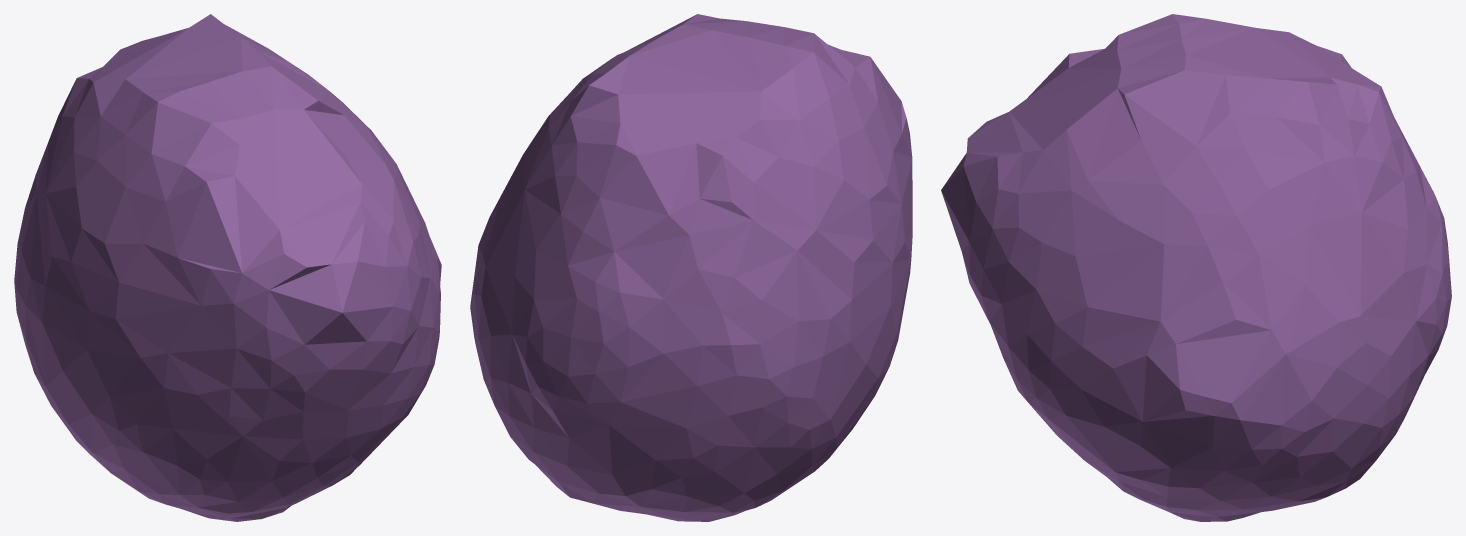
The model's file is Model_10364_LH__Medial_mammillary_nucleus__medial_part_(MM).obj.
The picture shows the model from 3 angles, left to right: view 1: azimuth 30°, elevation 25°; view 2: azimuth 150°, elevation 25°; view 3: azimuth 270°, elevation 25°; orthographic projection. The views are drawn at different scales.
Bounding box in the file's own units: 0.9143 × 1.08 × 1.11.
